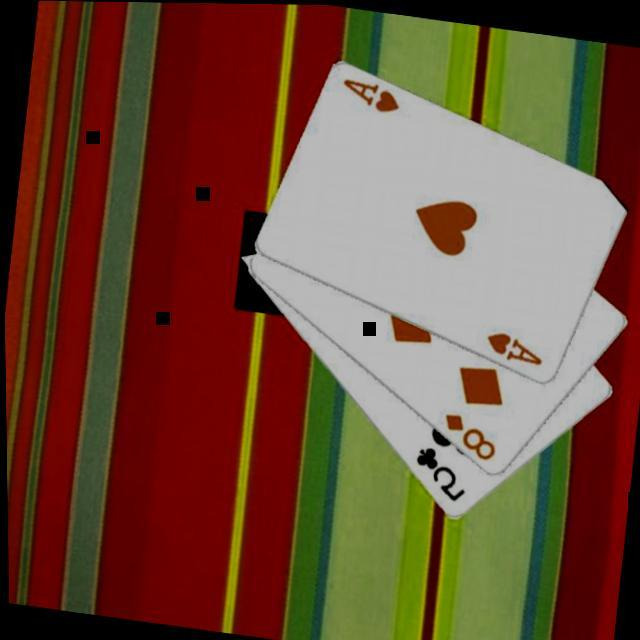5C: (406, 438, 473, 504)
8D: (436, 406, 502, 462)
AH: (337, 72, 405, 116), (480, 324, 548, 366)
